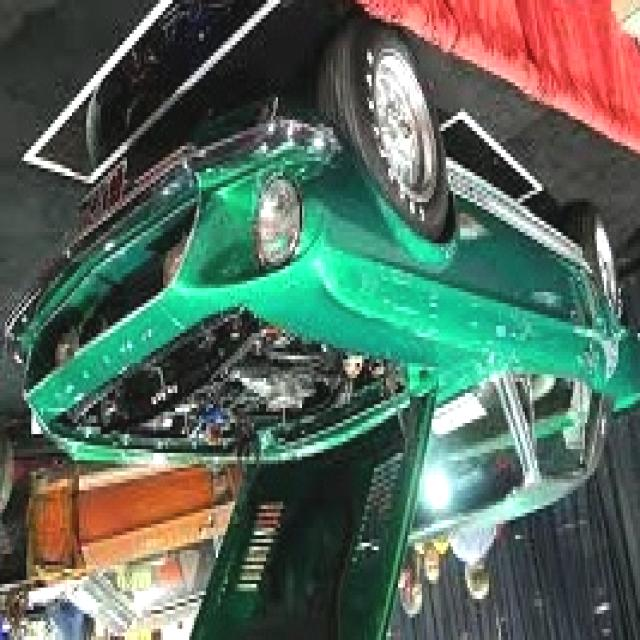green: (0, 43, 637, 640)
